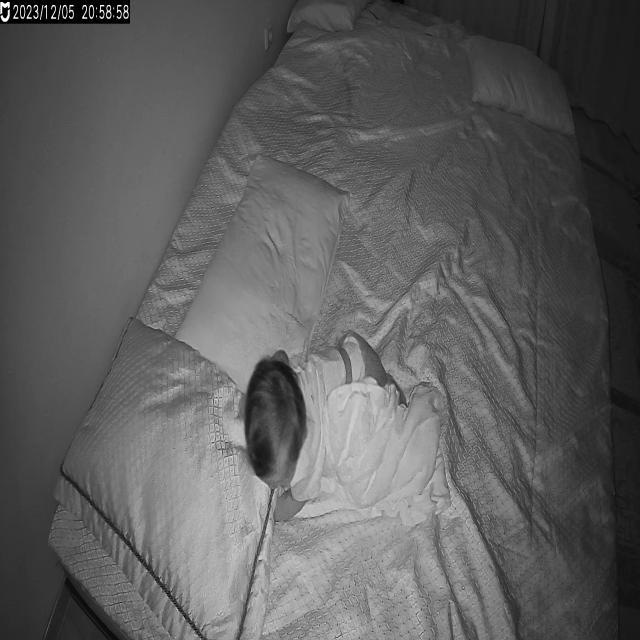baby: (238, 323, 424, 528)
